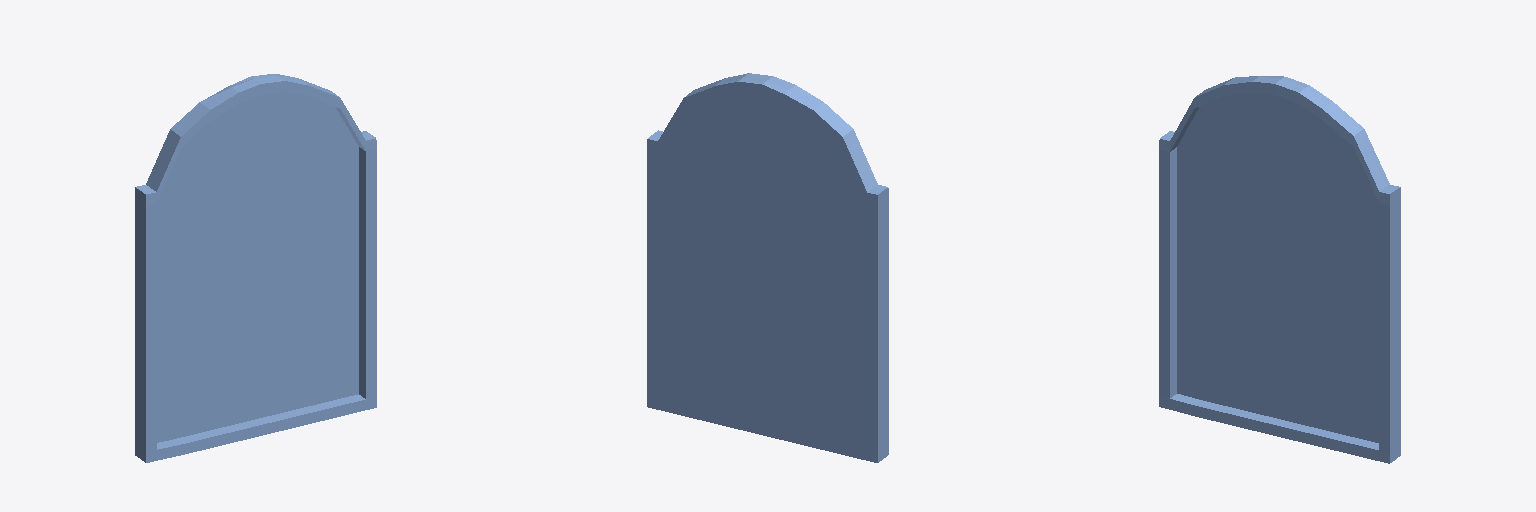
Rendered from mado_3.obj.
3 renders of one model, left to right at view 1: azimuth 30°, elevation 25°; view 2: azimuth 150°, elevation 25°; view 3: azimuth 330°, elevation 25°, orthographic.
Parts seen in each view (by area): view 1: Box014; view 2: Box014; view 3: Box014.
Part boxes in pixels (x1,y1,x2,y2): Box014: (135, 74, 376, 462); Box014: (647, 73, 888, 462); Box014: (1159, 76, 1400, 463).
Bounding box in the file's own units: 153 × 223 × 12.55.